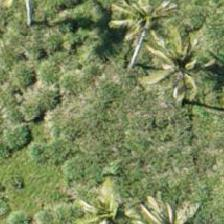coconut_tree: (143, 12, 223, 102), (85, 0, 175, 61), (63, 166, 153, 223)
